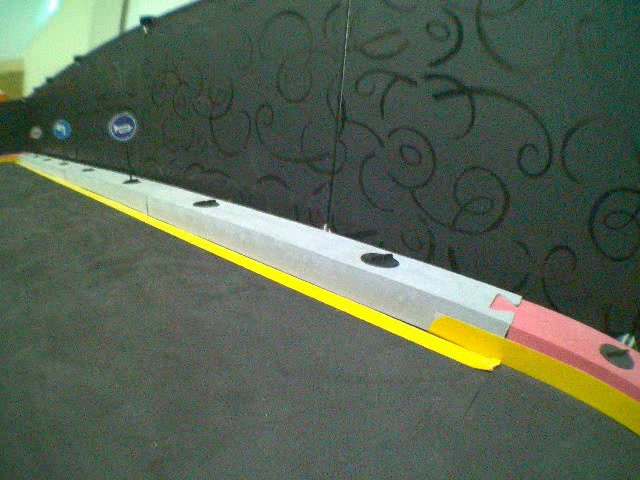horn: (107, 112, 138, 141)
turn: (51, 119, 72, 140)
